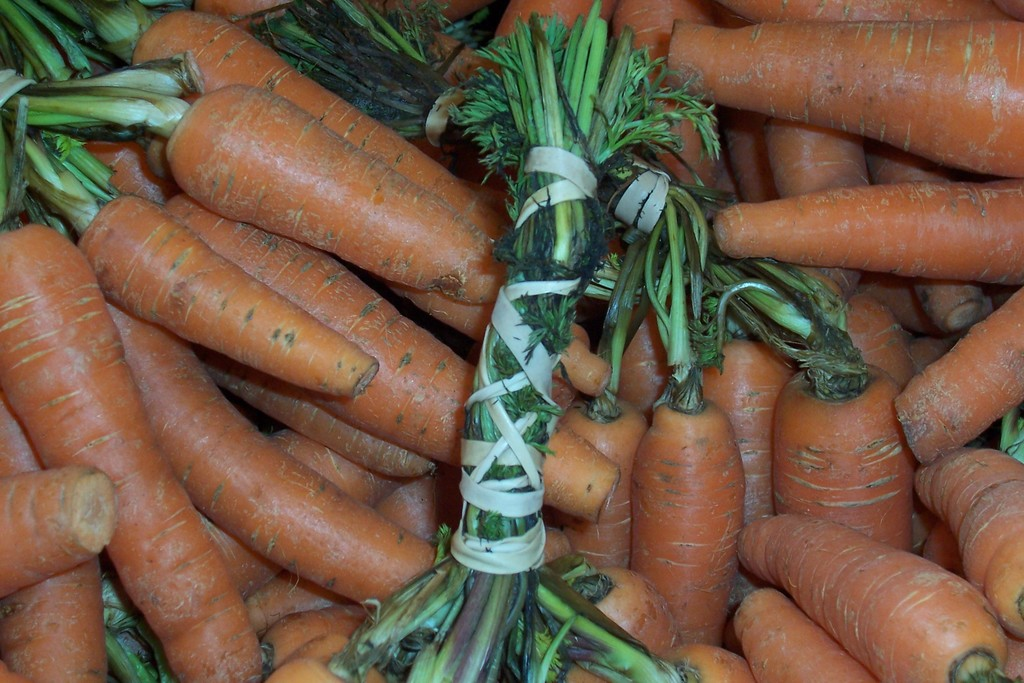Carrot: (0, 0, 1024, 683)
